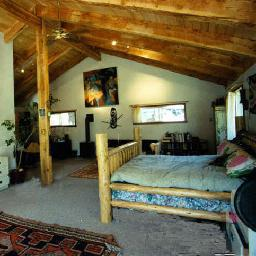Cama: (106, 140, 247, 223)
Matera: (5, 107, 40, 185)
